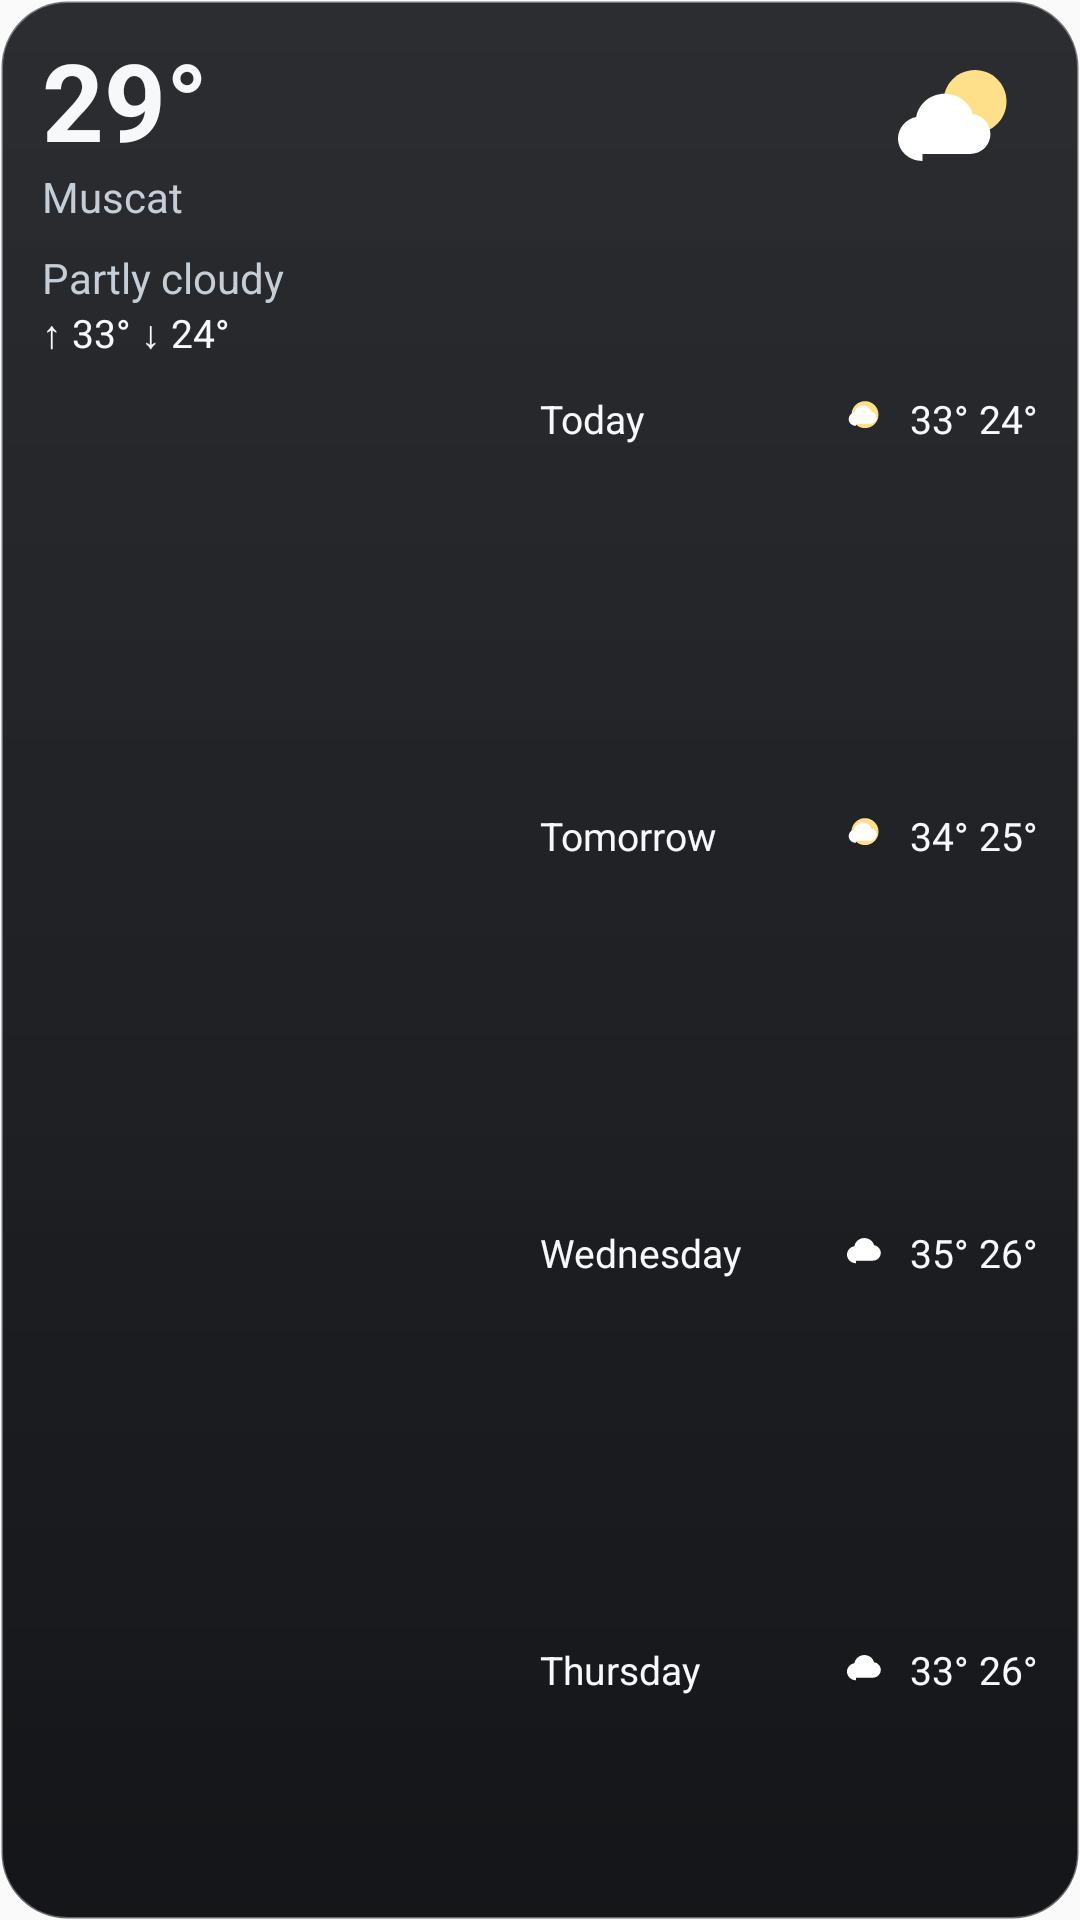

Screen size 1080px×1920px. Icon name, then its box in pixels as [left=x1, top=y1, right=x2, bottom=y2]:
cloud: [left=847, top=1238, right=881, bottom=1264], [left=847, top=1655, right=881, bottom=1681]
partly: [left=898, top=70, right=1007, bottom=161]
